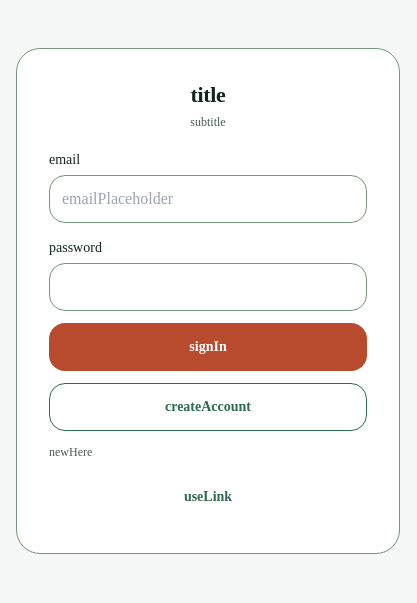
creating an account with a chosen password › reports any other refusal without blaming the citizen's password
Step 1. Click the button "createAccount" → (208, 407), box [49,383,367,431]
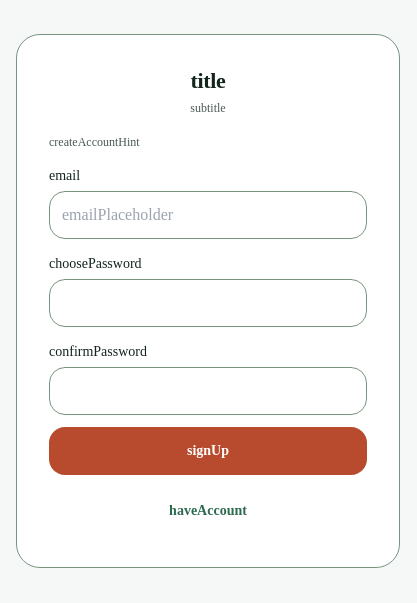
Step 2. Type "new@example.lk" into the field labelled "email" → (208, 215), box [49,191,367,239]
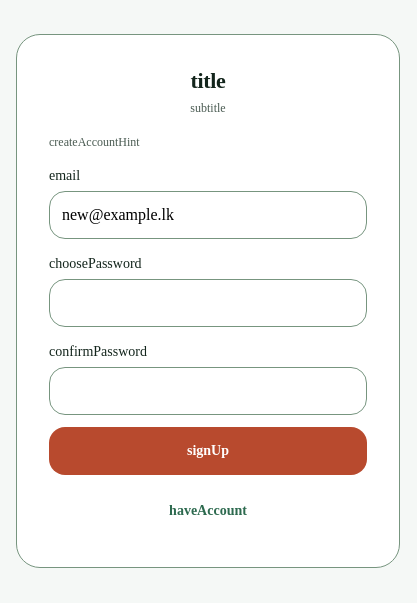
Step 3. Type "correct-horse" into the password field labelled "choosePassword" → (208, 303), box [49,279,367,327]
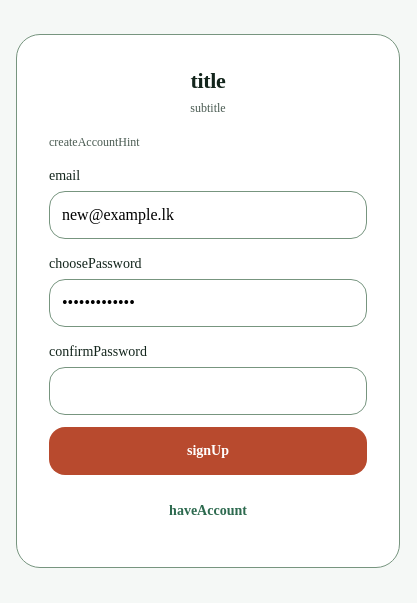
Step 4. Type "correct-horse" into the password field labelled "confirmPassword" → (208, 391), box [49,367,367,415]
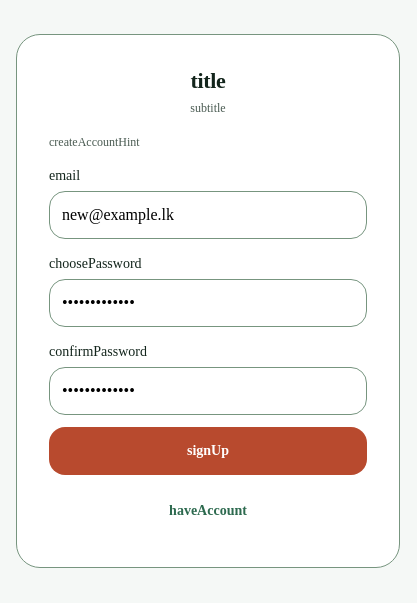
Step 5. Click the button "signUp" → (208, 451), box [49,427,367,475]
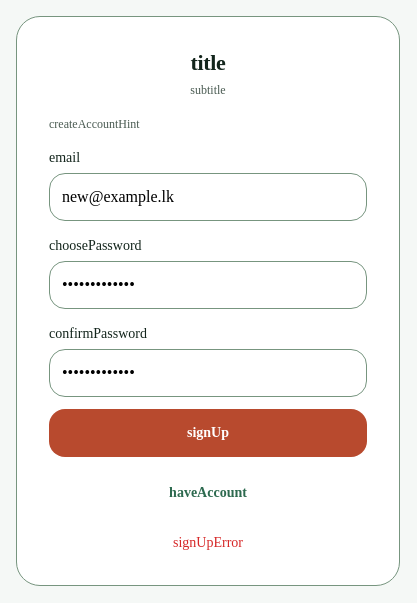
Expected: the message reads "signUpError", [173,535,243,550]
